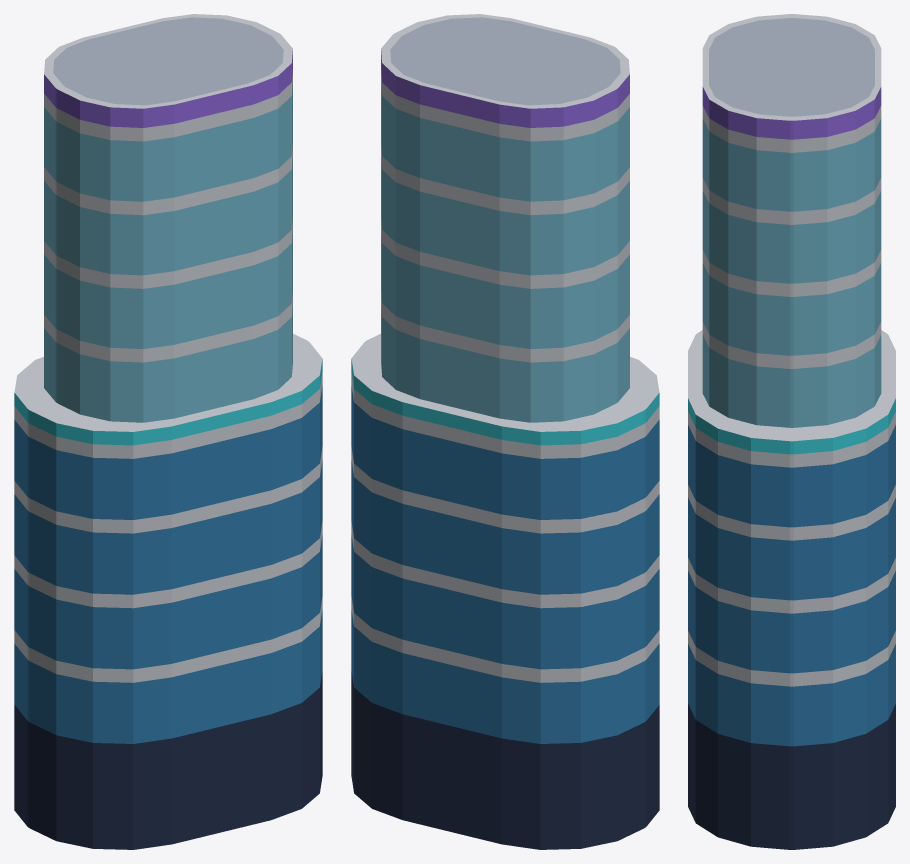
File: city-midrise-2.glb
The picture shows the model from 3 angles, left to right: view 1: azimuth 30°, elevation 25°; view 2: azimuth 150°, elevation 25°; view 3: azimuth 270°, elevation 25°; orthographic projection. The views are drawn at different scales.
Visible parts, largest first — view 1: CityMidrise2; view 2: CityMidrise2; view 3: CityMidrise2.
Boxes of the visible parts, x1=… form: CityMidrise2: x1=14, y1=14, x2=322, y2=849; CityMidrise2: x1=351, y1=14, x2=659, y2=849; CityMidrise2: x1=688, y1=14, x2=895, y2=849.
Size of the model in its own units: 15.2 by 38 by 10.
